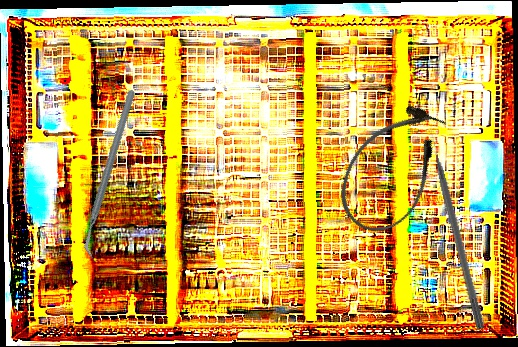Cannula: (323, 90, 463, 247)
Chopper: (28, 87, 193, 261)
Pusher: (426, 126, 487, 331)
